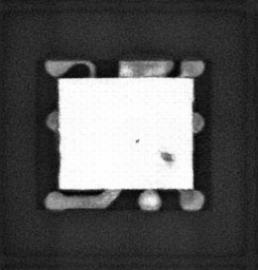DIE_INK: (157, 149, 176, 161), (133, 135, 141, 144)
